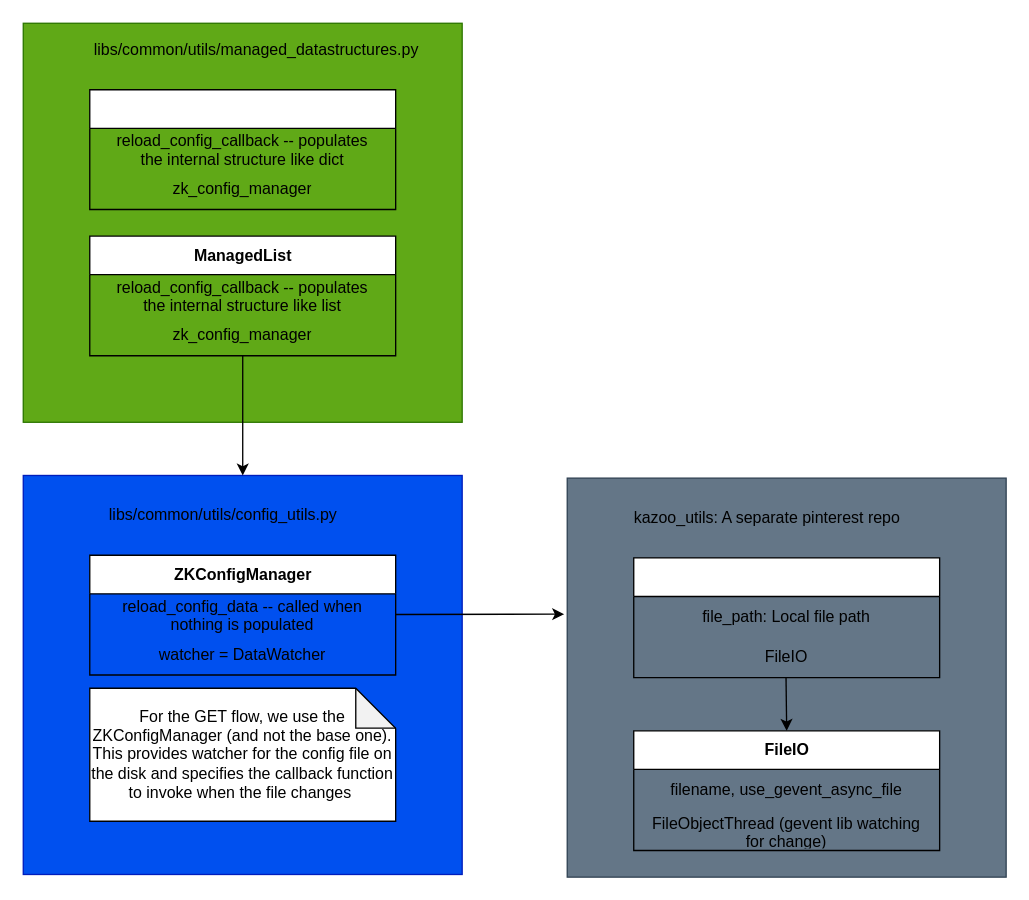
The diagram is 1029 pixels wide and 900 high, and some of its shapes have lost their labels. The box of each missing label's shape, as (x1, y1, x2, y2) in pixels:
DataWatcher: (632, 557, 940, 678)
ManagedHashMap: (88, 88, 396, 209)
